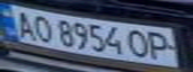4: (103, 25, 127, 56)
5: (87, 21, 109, 53)
8: (51, 17, 75, 47)
9: (69, 19, 90, 51)
A: (6, 8, 39, 39)
O: (124, 28, 154, 60), (30, 14, 57, 43)
P: (145, 29, 178, 61)
